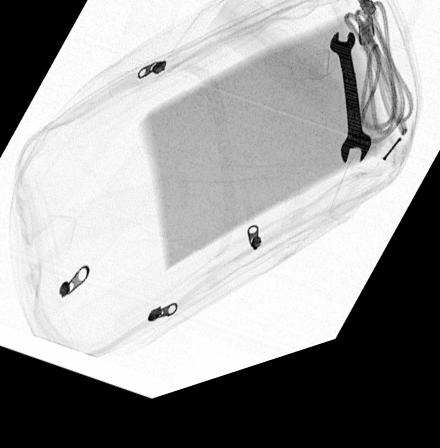Wrench: (326, 50, 374, 188)
